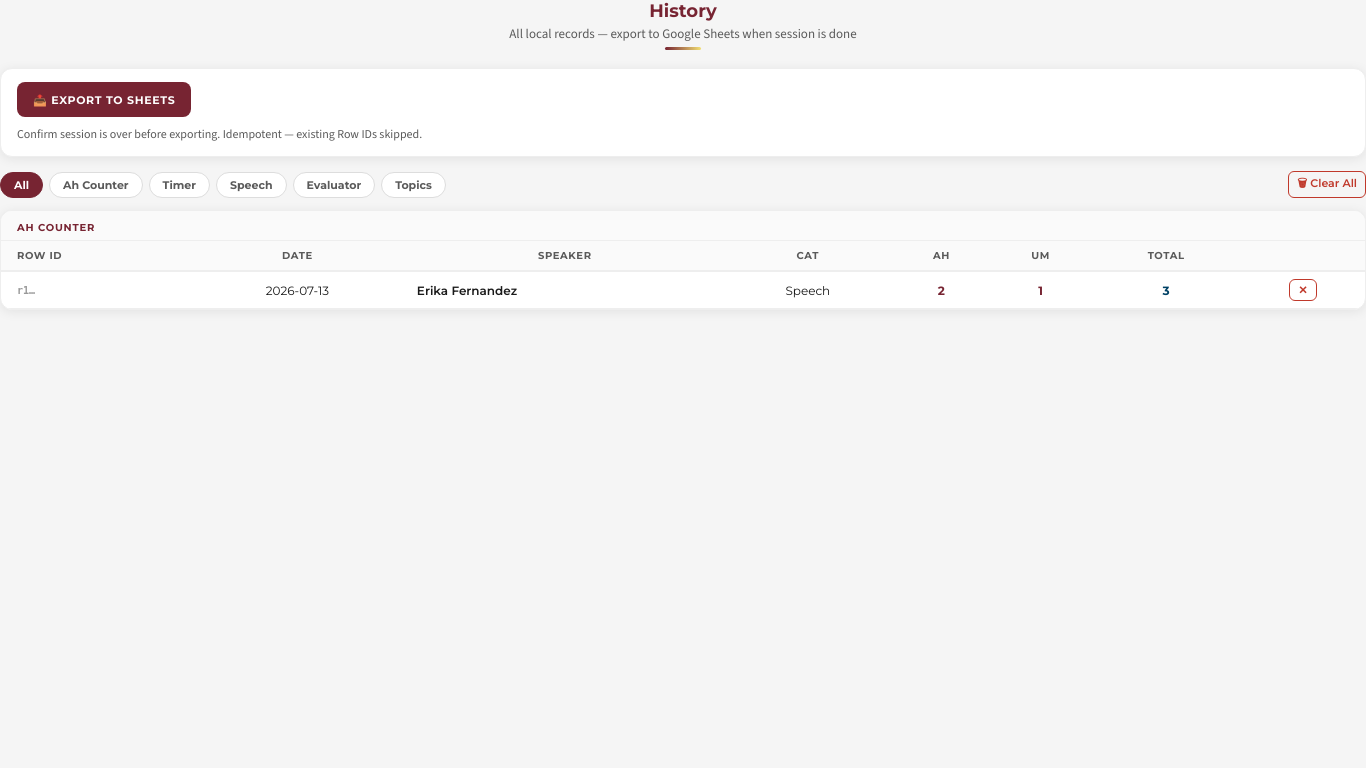
Scenario: HistoryTab › opens the confirm modal on export, and cancel closes it without exporting
This screenshot has width=1366, height=768.
Click the button "📤 Export to Sheets": (104, 100) [17,82,191,117]
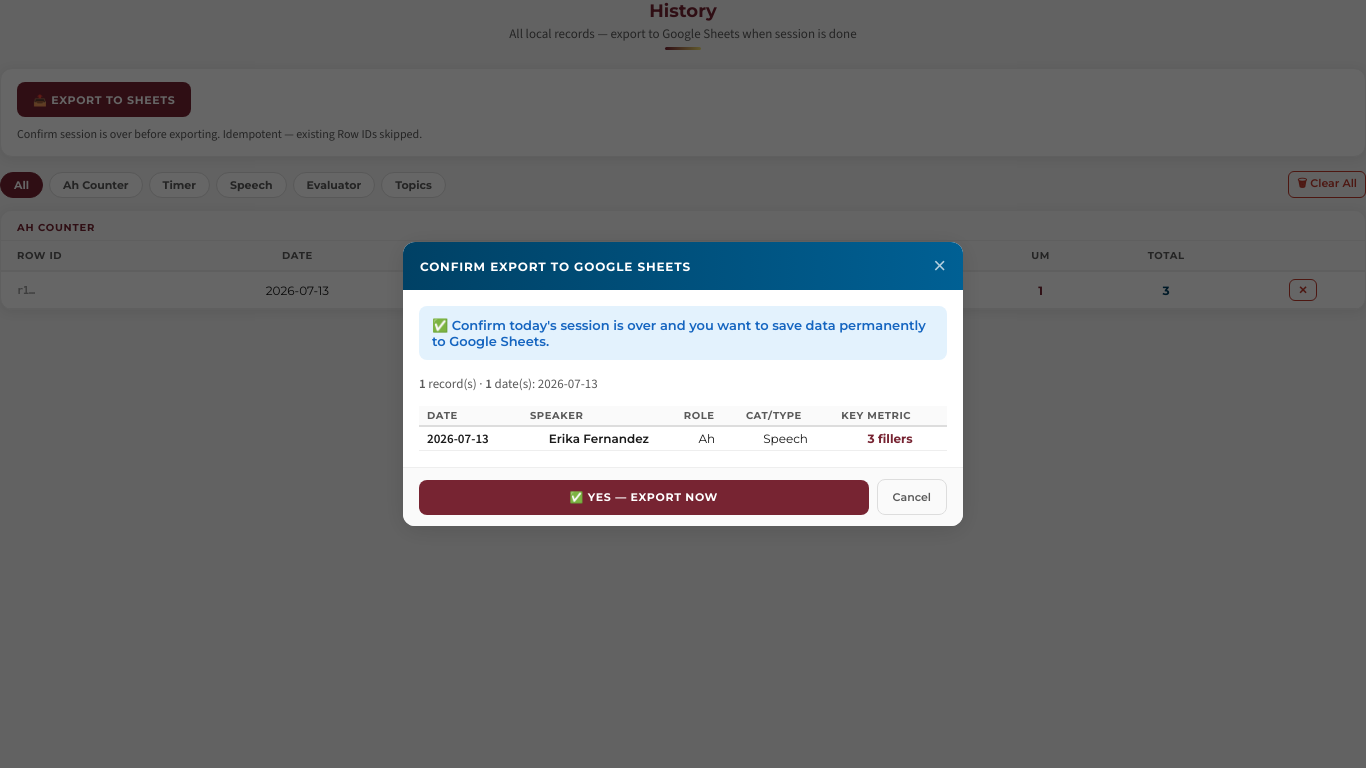
Expected: the text "Confirm Export to Google Sheets" is shown, [420,259,691,274]
Click the button "Cancel": (912, 497) [877,479,947,515]
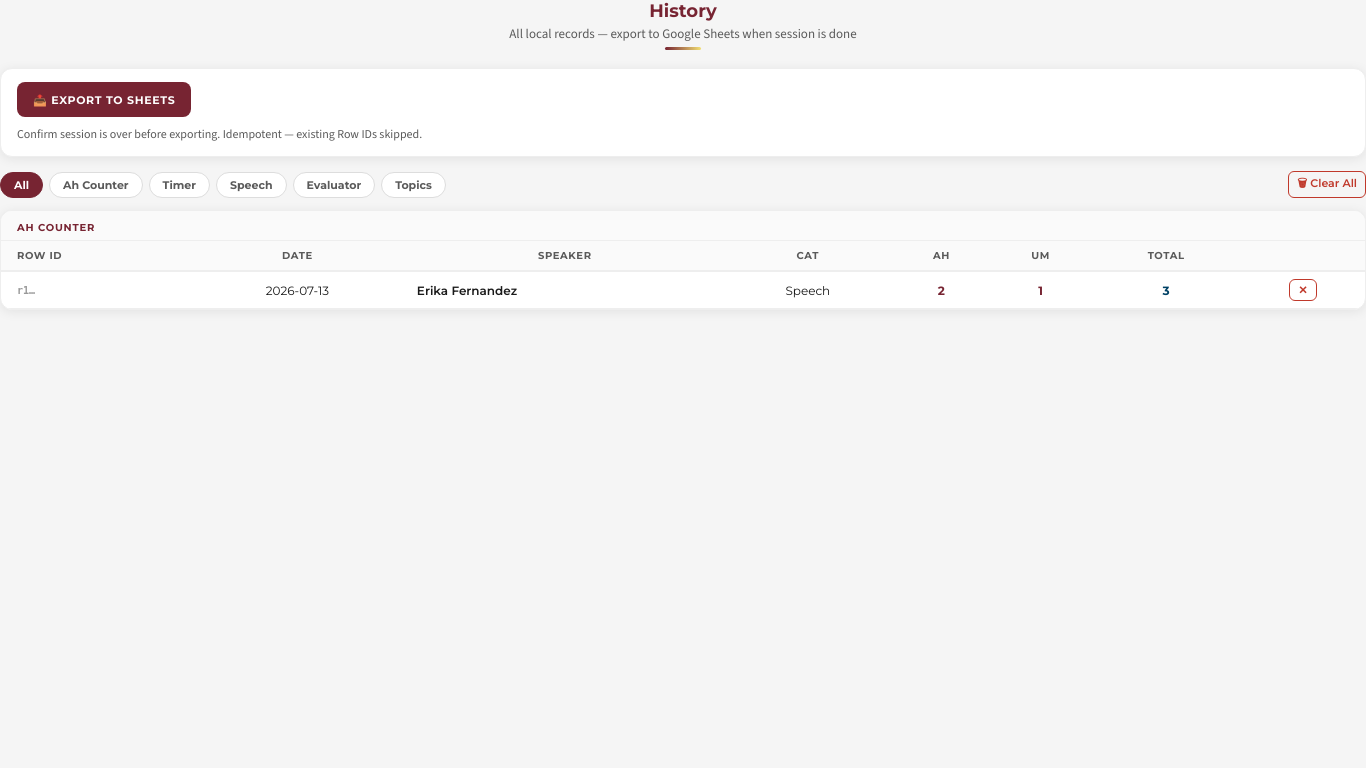
Expected: the text "Confirm Export to Google Sheets" is gone
